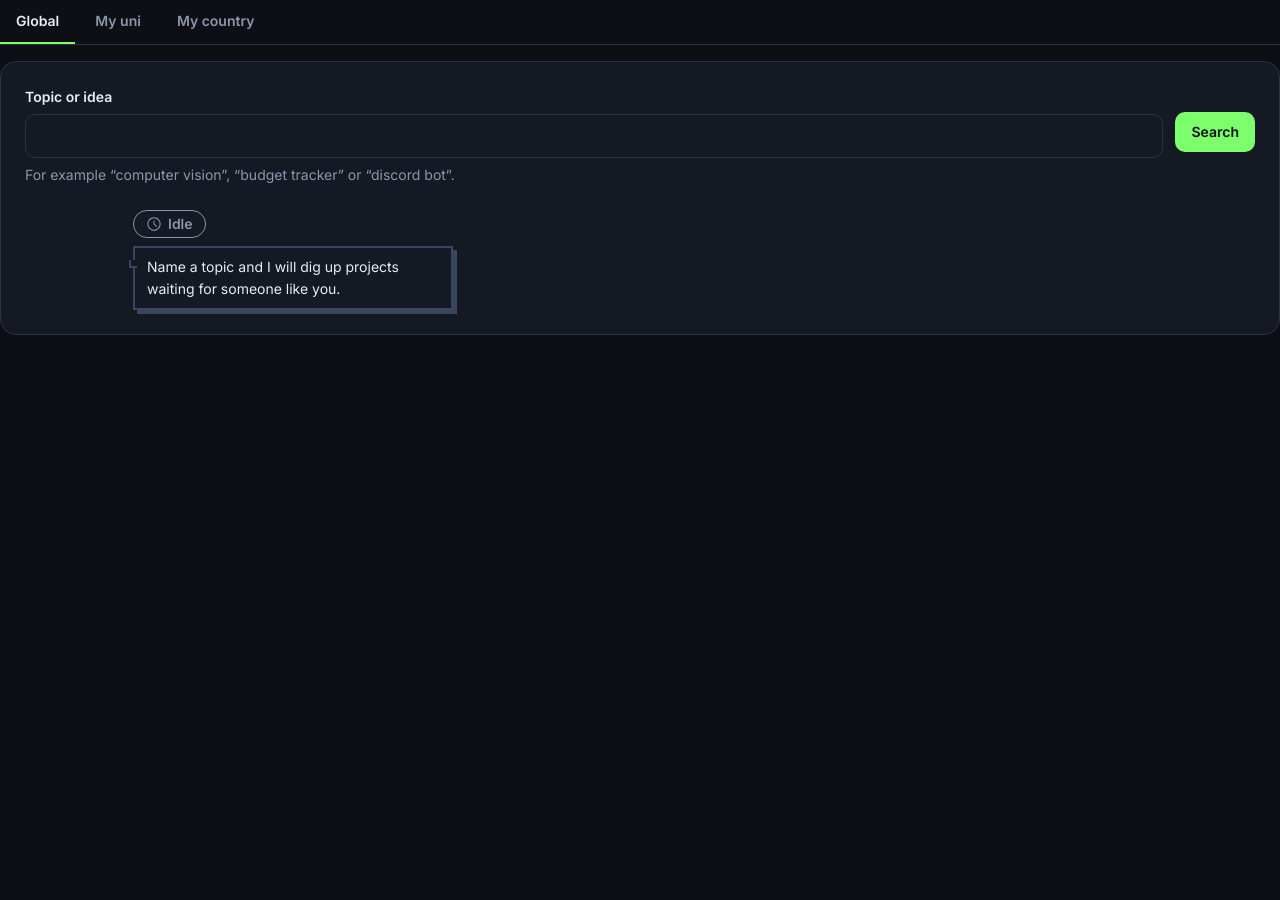
Test case: GraveyardTool › searches, lists the results and filters them on the page
Step 1. Type "computer vision" into the search field labelled "Topic or idea" → [594, 136], box [25,114,1164,158]
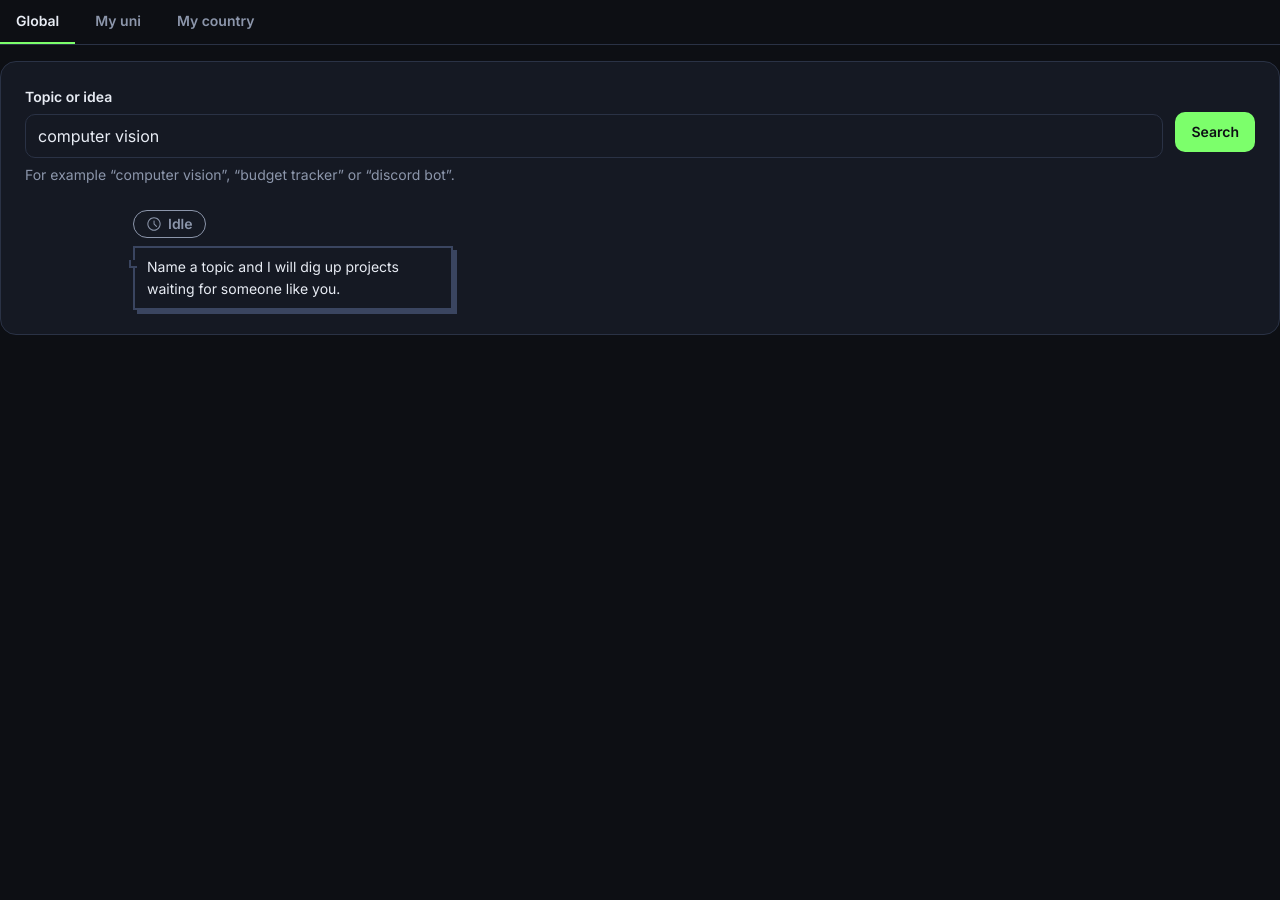
Step 2. Click the button "Search" → [1215, 132], box [1176,112,1255,152]
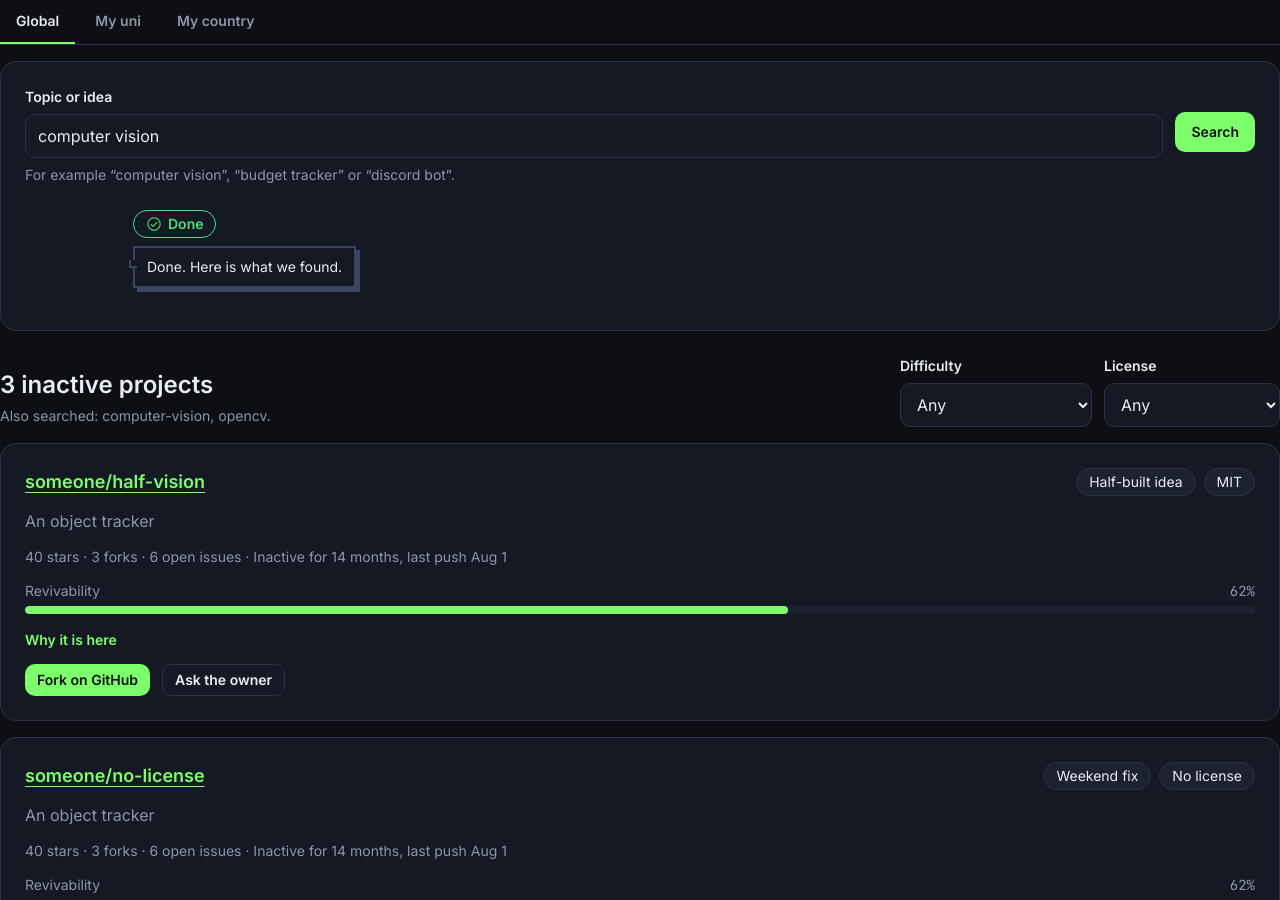
Expected: the number of elements with test id "graveyard-item" is 3
Expected: the text "Also searched: computer-vision, opencv." is shown, [0,405,271,427]
Step 3. Select "No license" in the dropdown labelled "License" → [1192, 405], box [1104,383,1279,427]
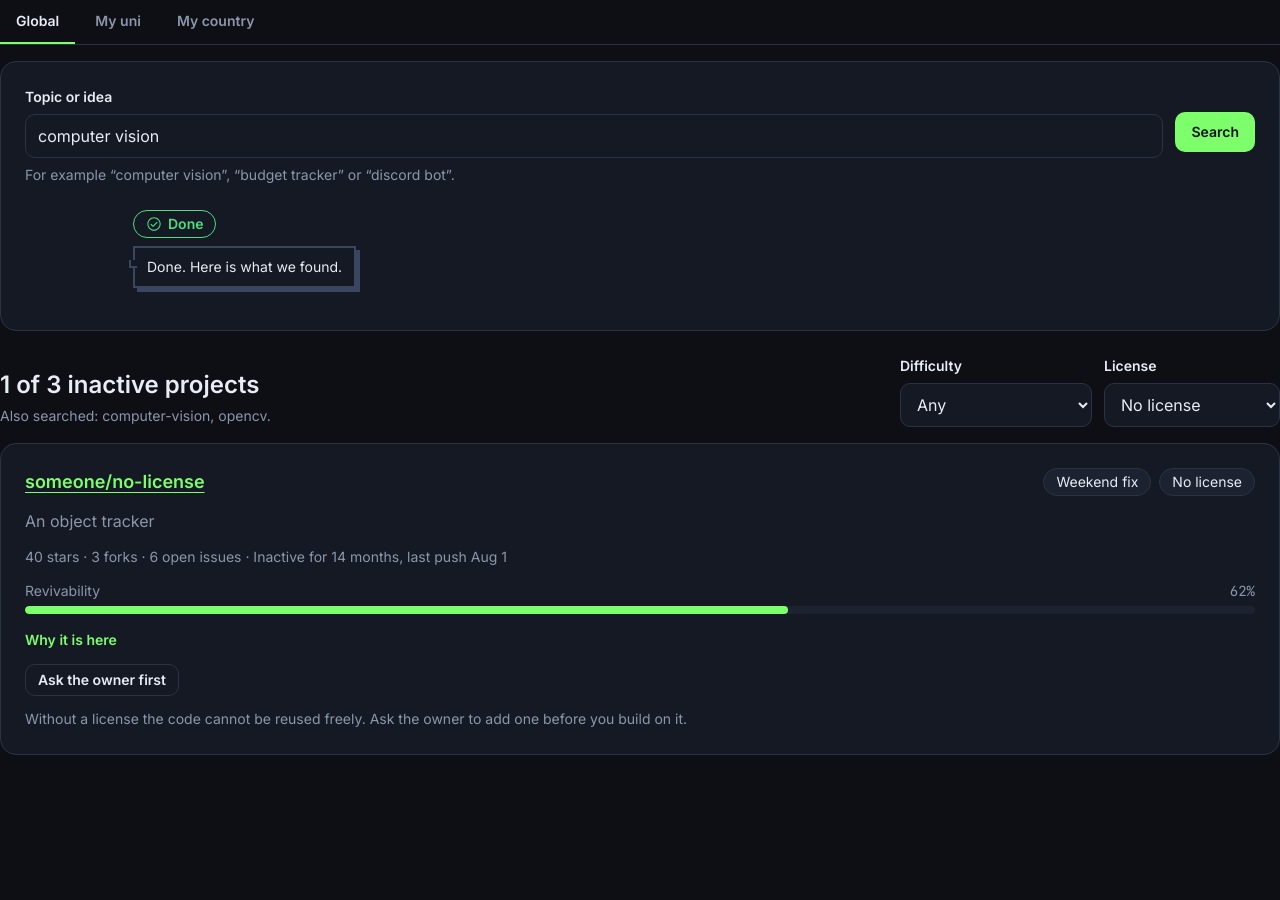
Expected: the number of elements with test id "graveyard-item" is 1, [0,443,1279,755]
Expected: the heading "1 of 3 inactive projects" is shown, [0,369,271,401]
Step 4. Select "Half-built idea" in the dropdown labelled "Difficulty" → [996, 405], box [900,383,1092,427]
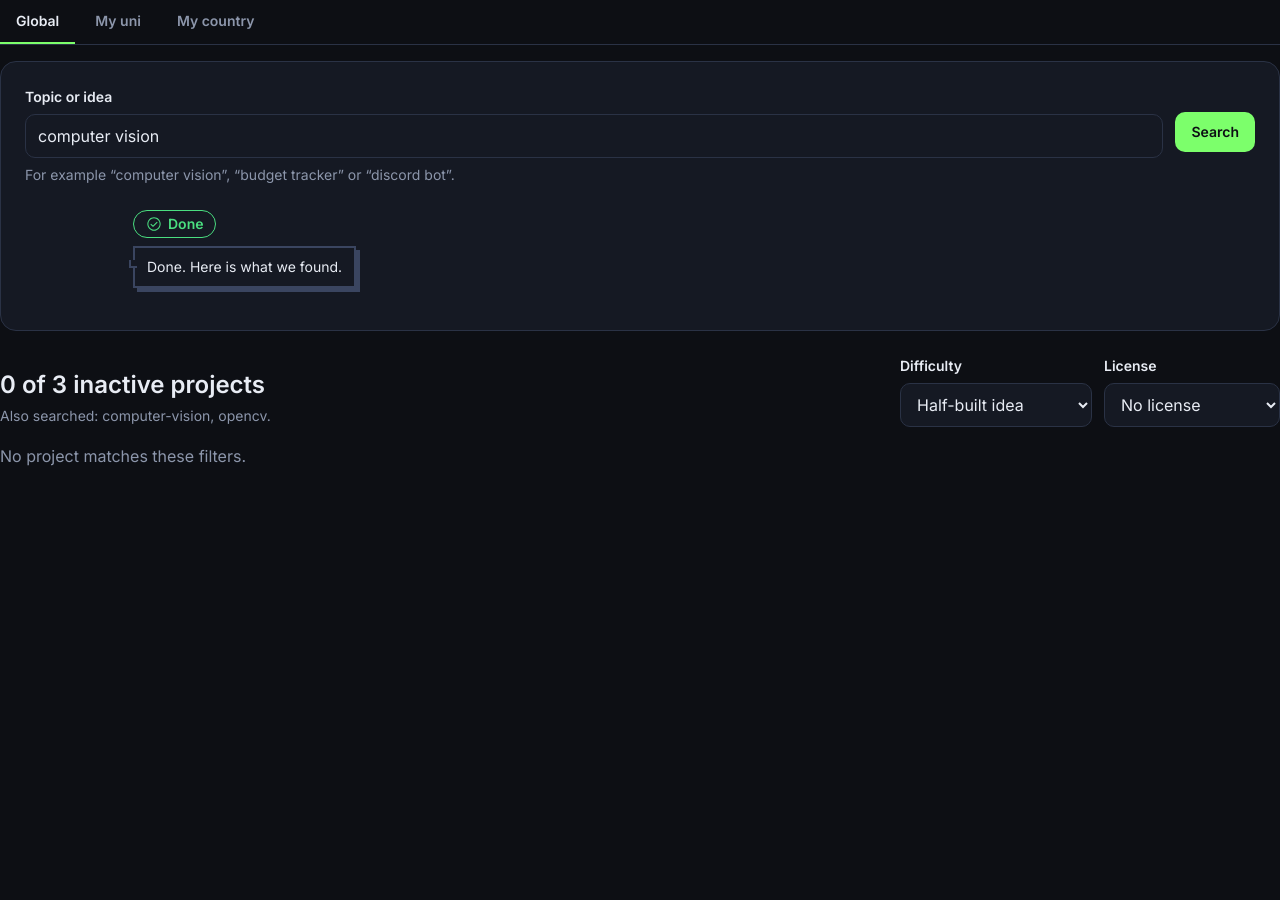
Expected: the text "No project matches these filters." is shown, [0,446,246,466]
